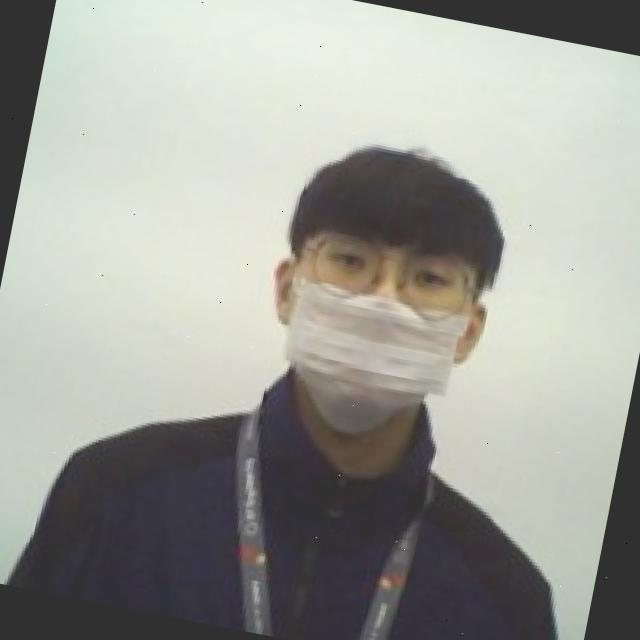mask: (255, 261, 490, 464)
no_gloves: (282, 123, 528, 294)
